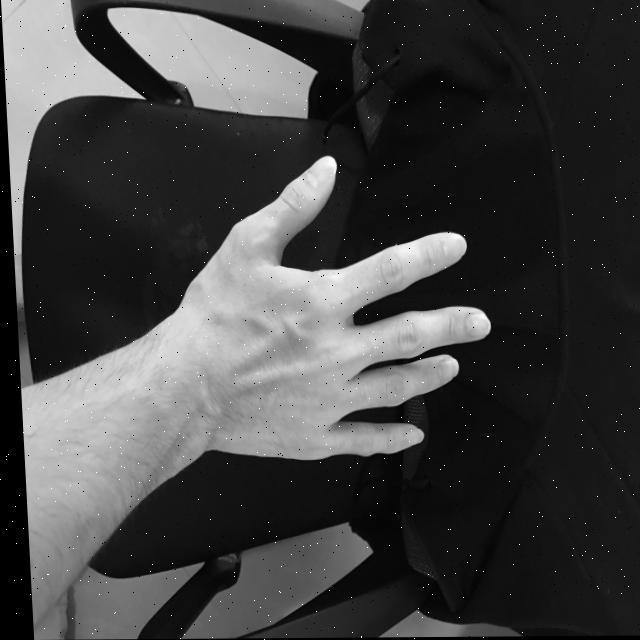no-gloves: (181, 150, 498, 466)
